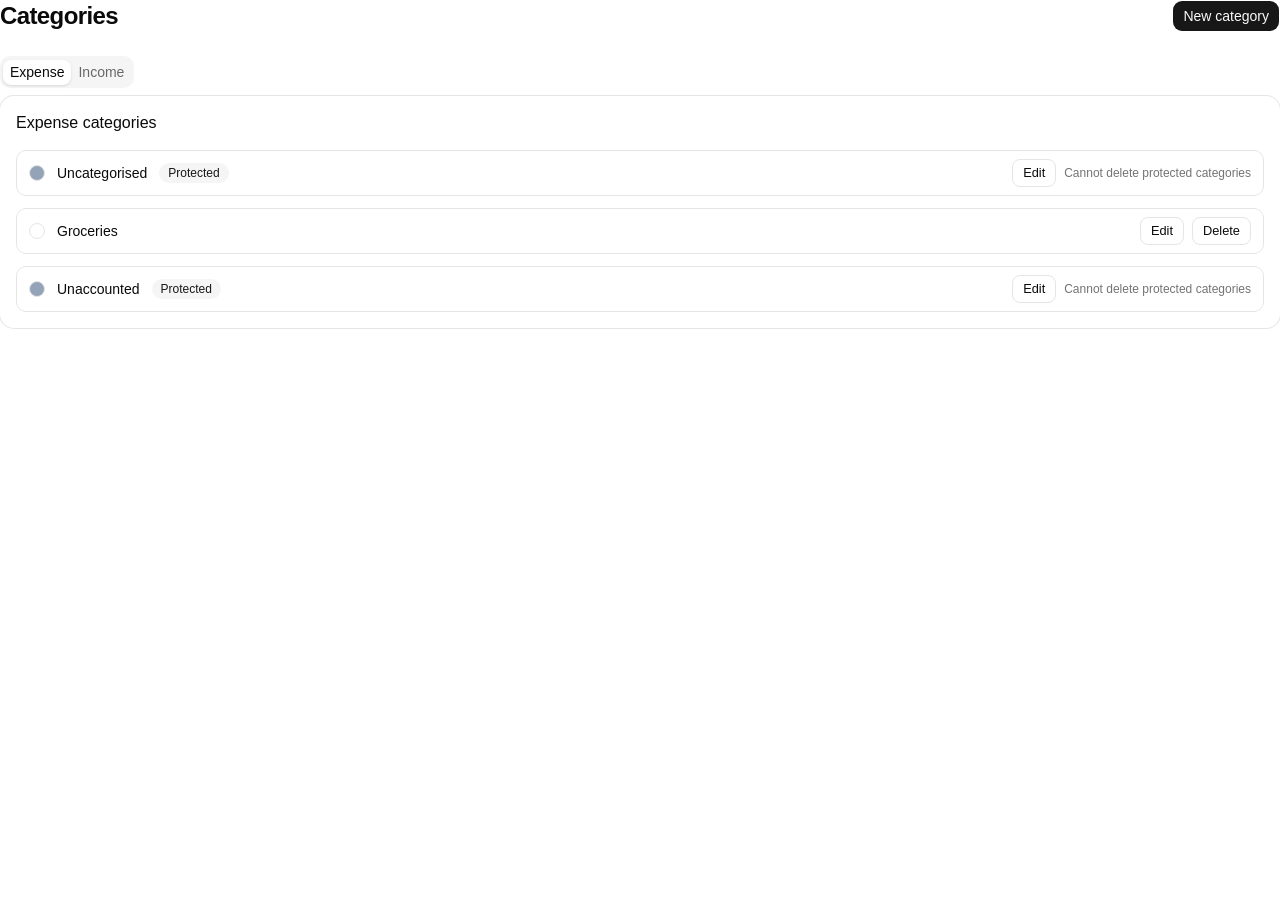
Test case: CategoriesPage › surfaces duplicate name errors from the API
Click the button "New category".
click(1226, 16)  # box [1172,0,1279,32]
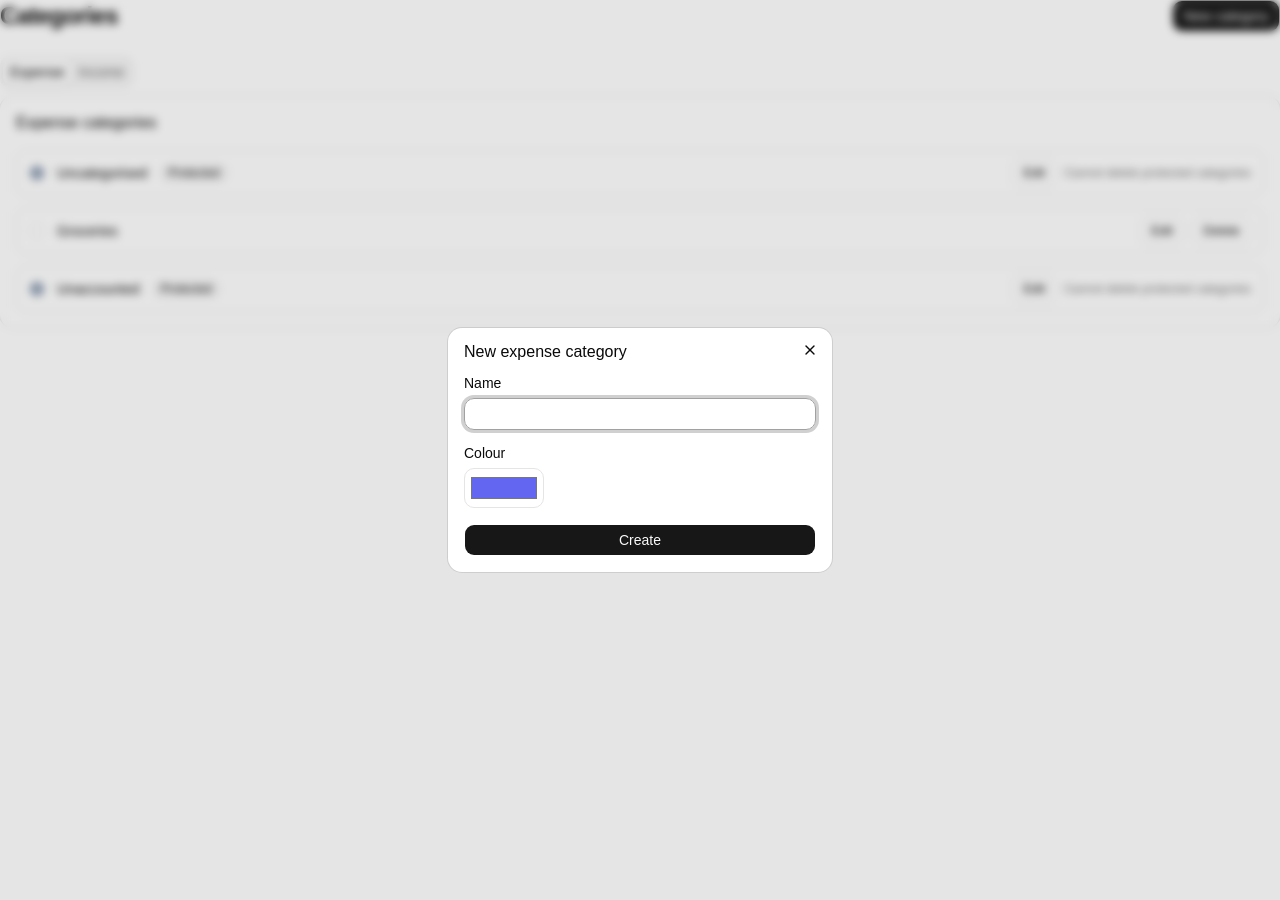
Type "Groceries" into the field labelled "Name".
click(640, 414); type("Groceries")  # box [464,398,816,430]
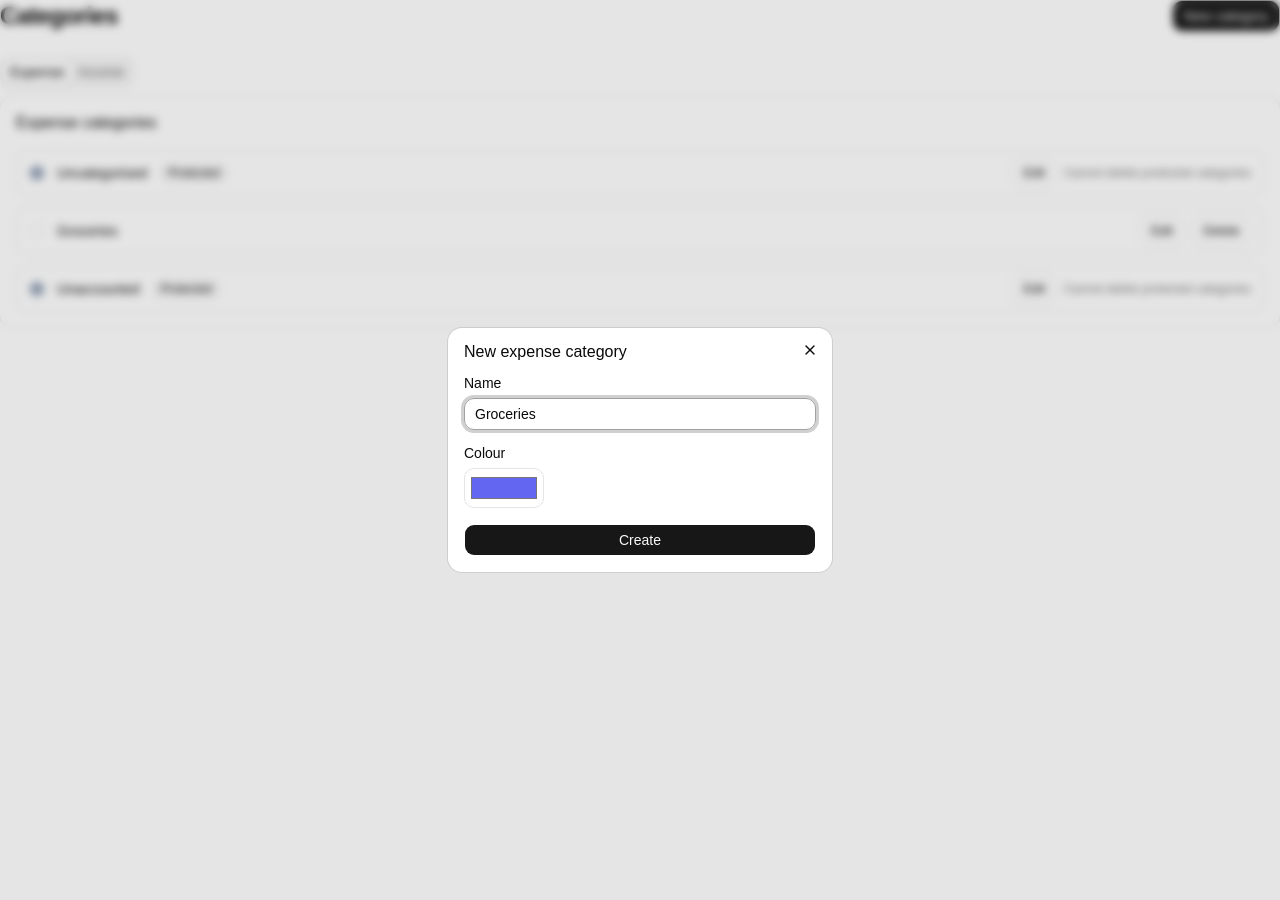
Click the button "Create".
click(640, 540)  # box [464,524,816,556]
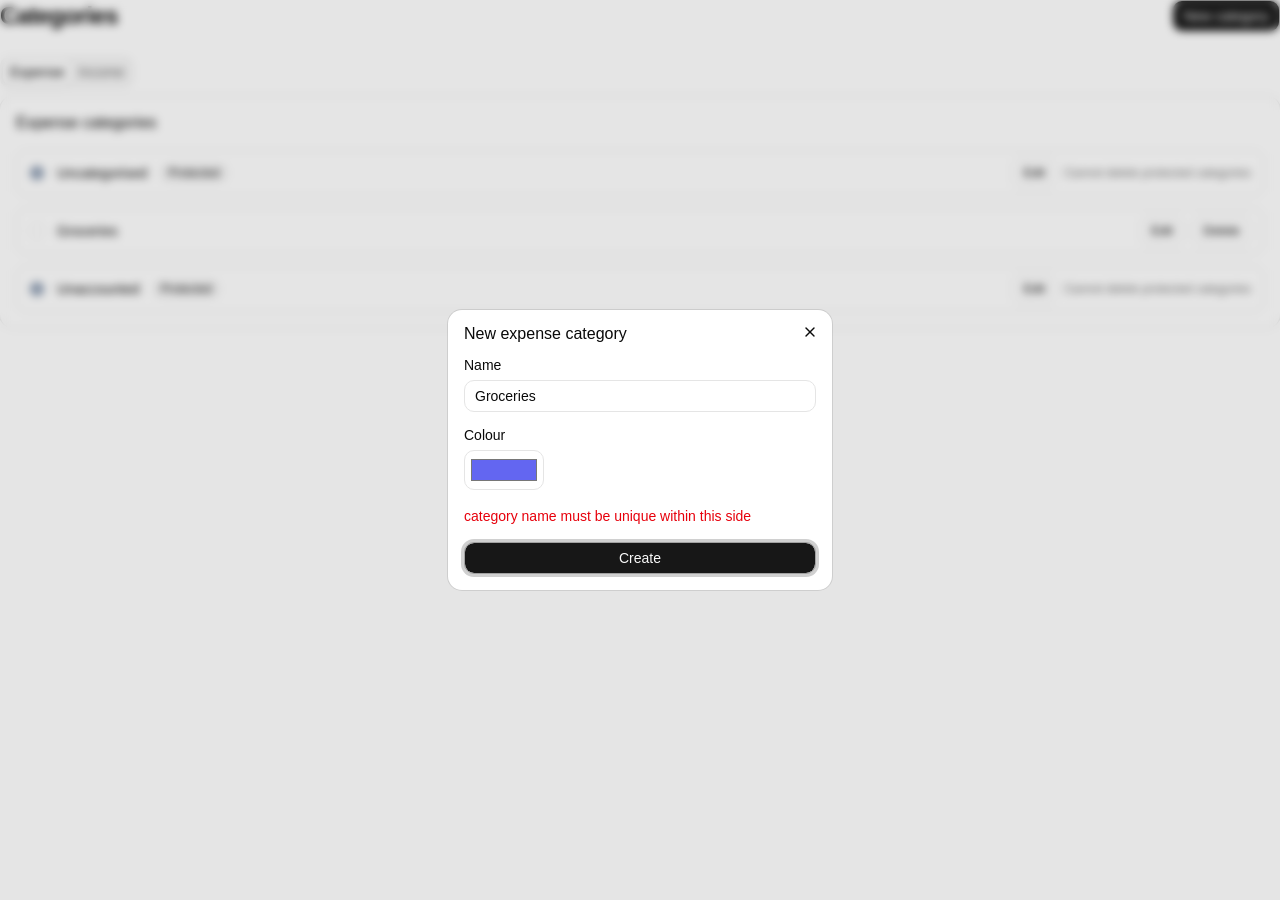
Expected: the text "category name must be unique within this side" is shown, [464,508,751,524]
